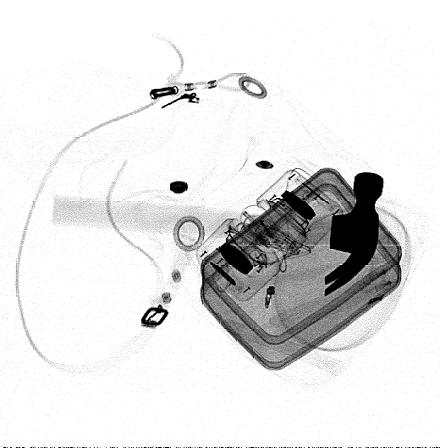Hammer: (53, 172, 384, 298)
